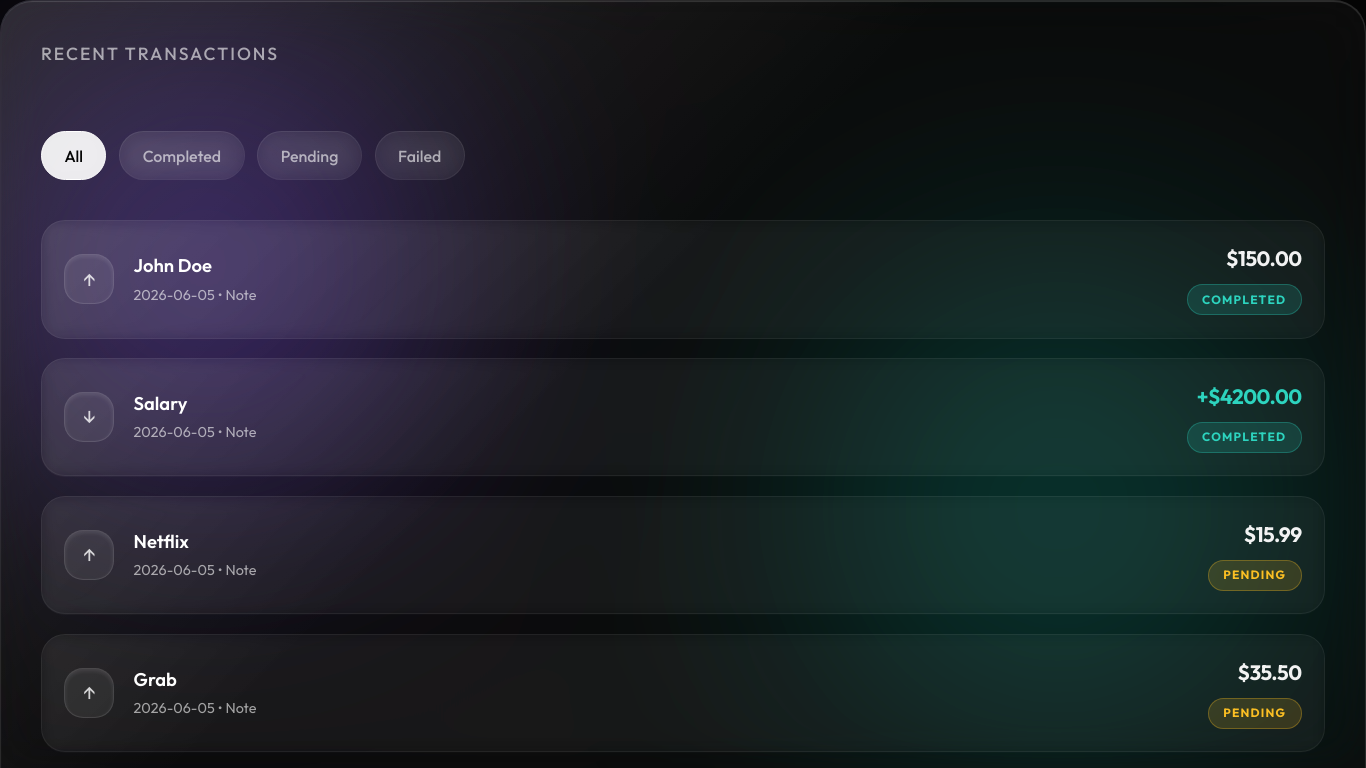
Test: TransactionList filter actions › FILTER-02: clicking Completed shows completed items only
Click the button "Completed" at (182, 156), box [119,131,244,180]
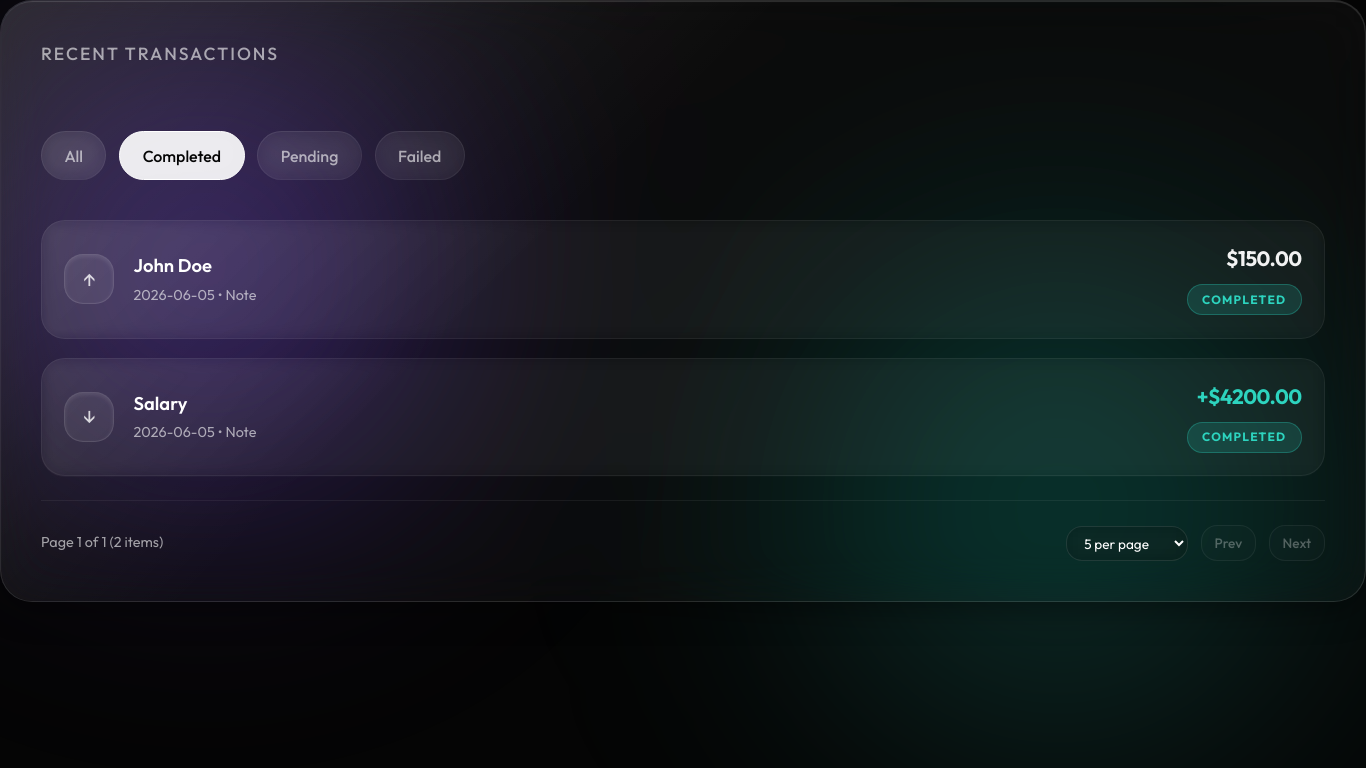
Expected: the heading "John Doe" is shown, [134,254,212,277]
Now the heading "Netflix" is gone
Now the heading "Grab" is gone
